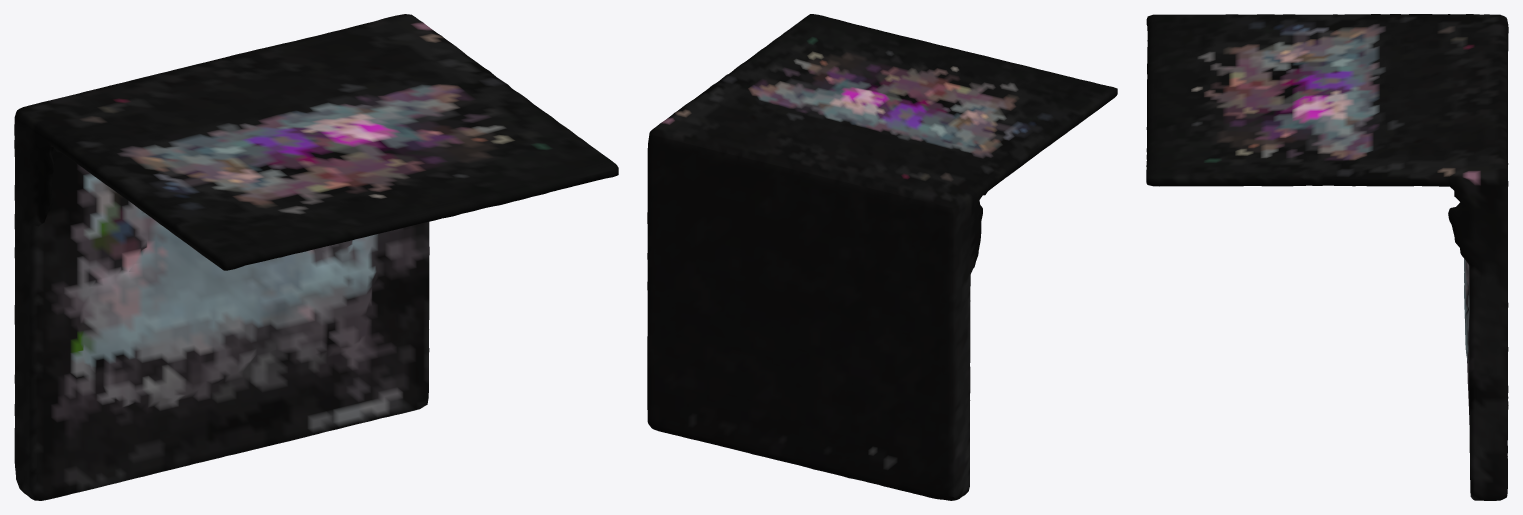
File: a laptop.obj
3 renders of one model, left to right at view 1: azimuth 30°, elevation 25°; view 2: azimuth 150°, elevation 25°; view 3: azimuth 270°, elevation 25°, orthographic. The views are drawn at different scales.
Bounding box in the file's own units: 1.01 × 0.9303 × 0.9292.
